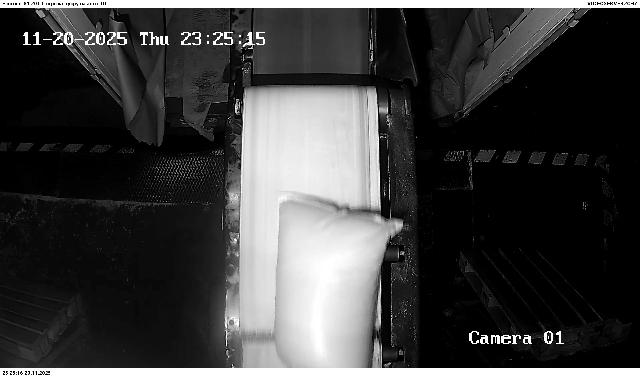bag: (274, 196, 404, 368)
